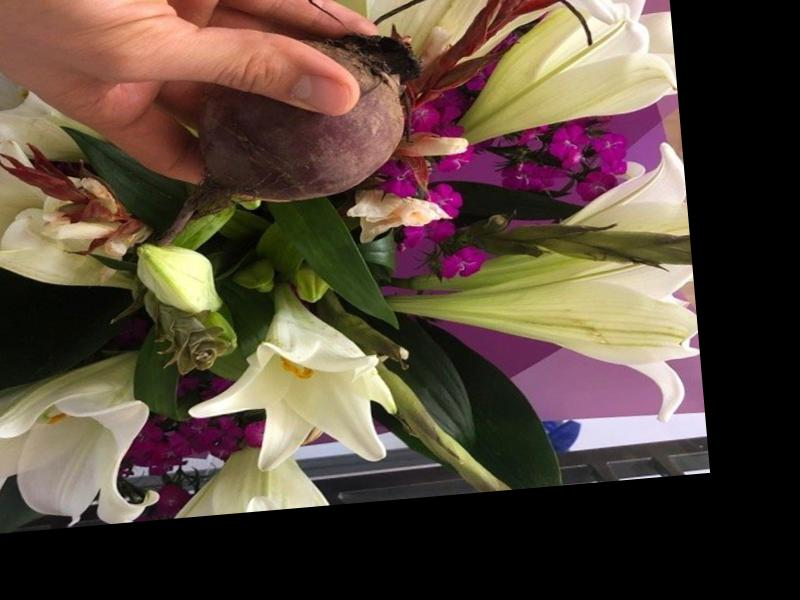Beet: (133, 28, 433, 250)
